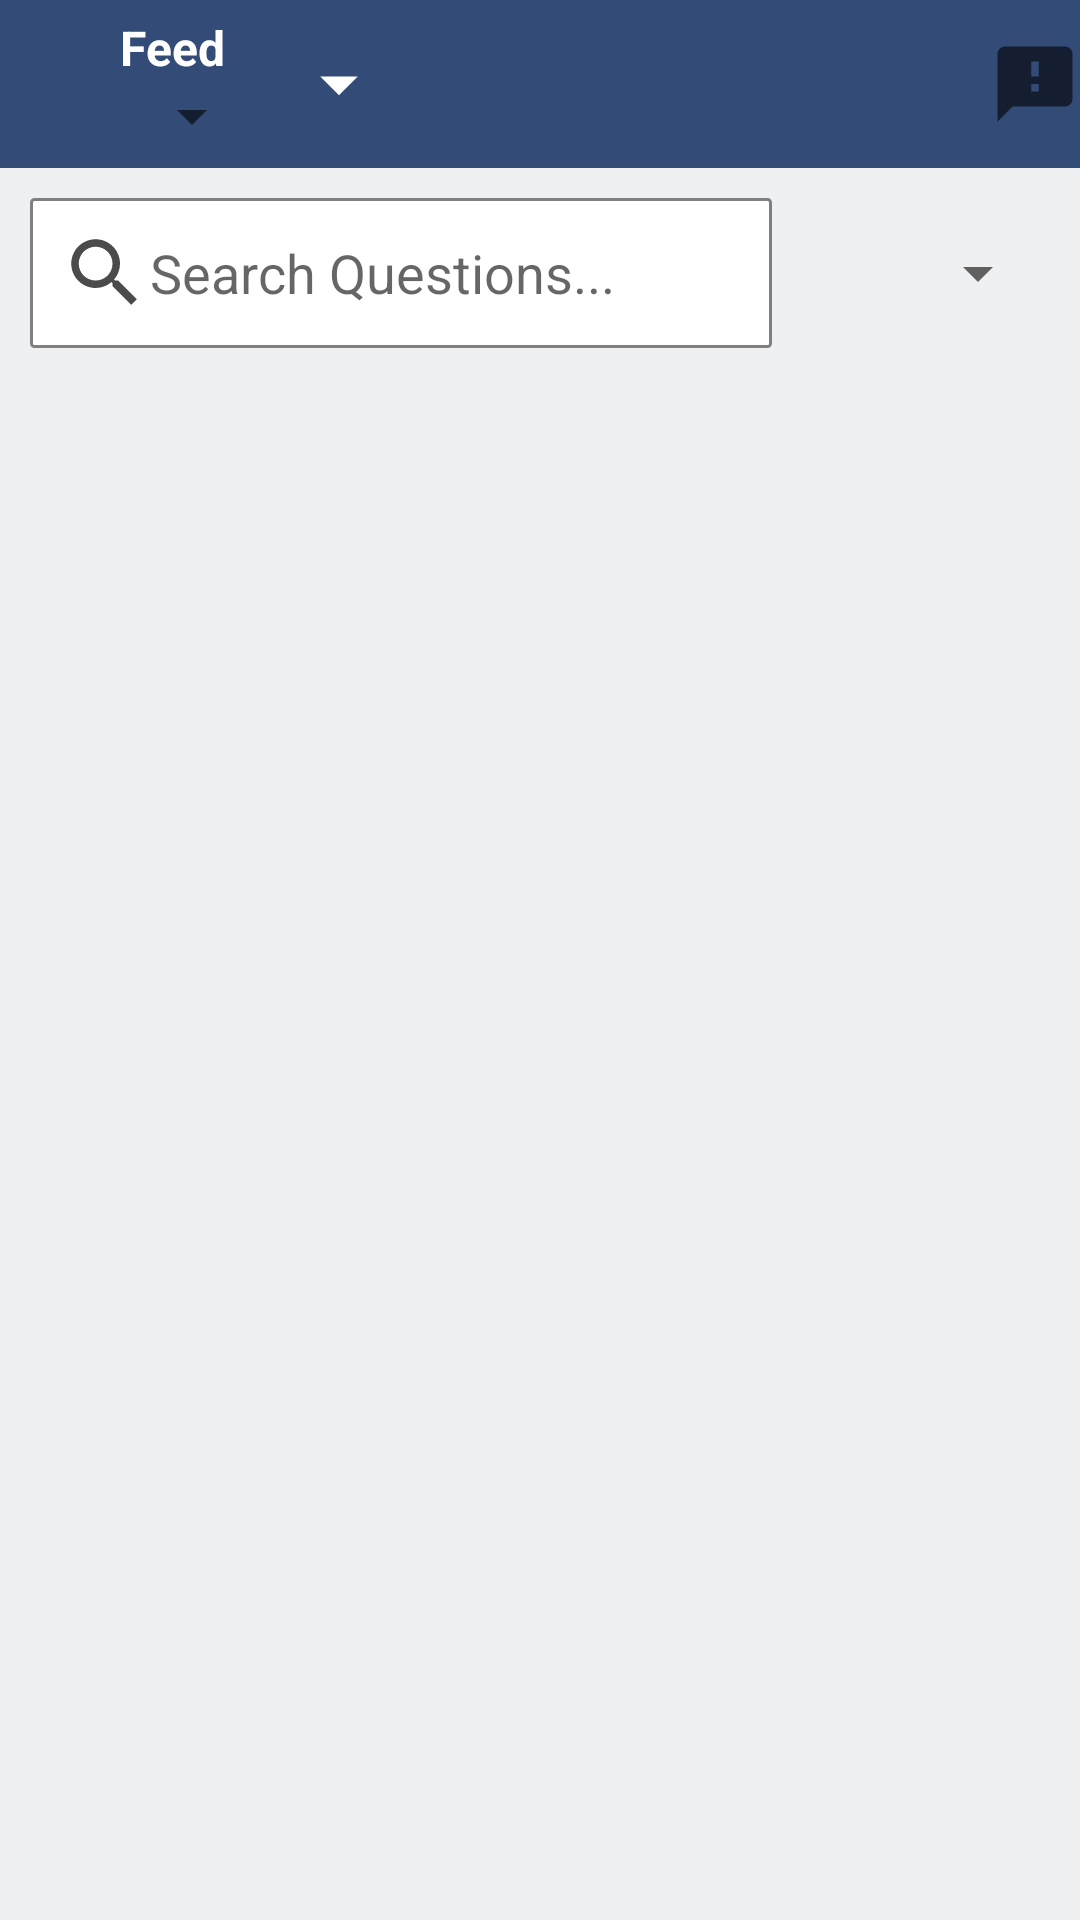

Point at icon controls on the screen. Image size 1080w x 1920h, points as [x,y].
drop down: [339,85]
